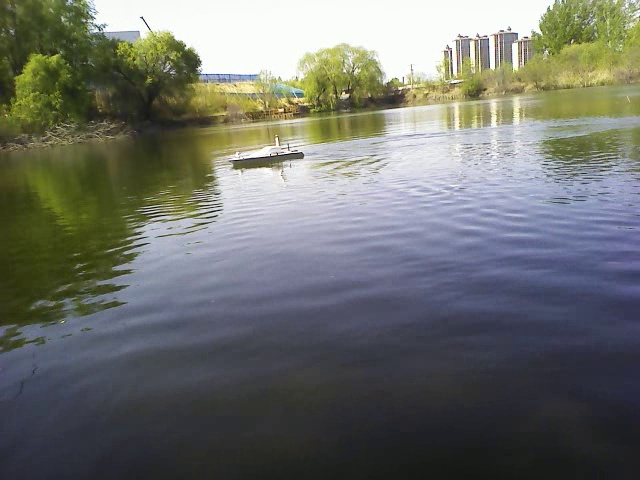boat: (229, 142, 308, 169)
